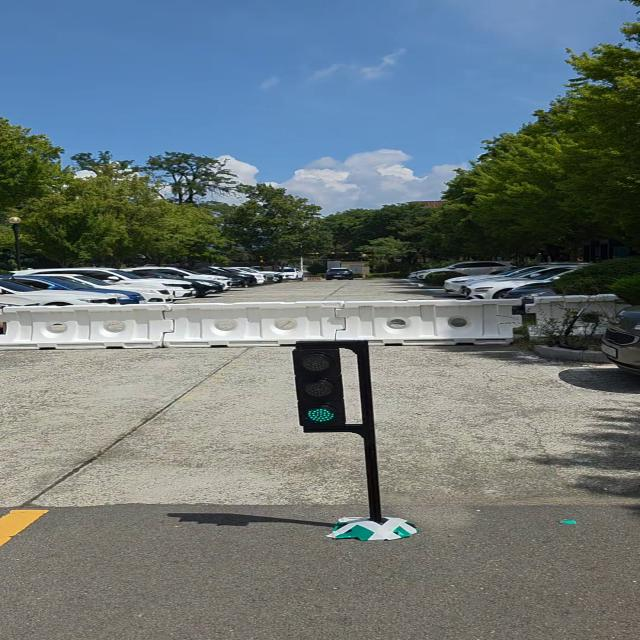green: (292, 348, 349, 433)
